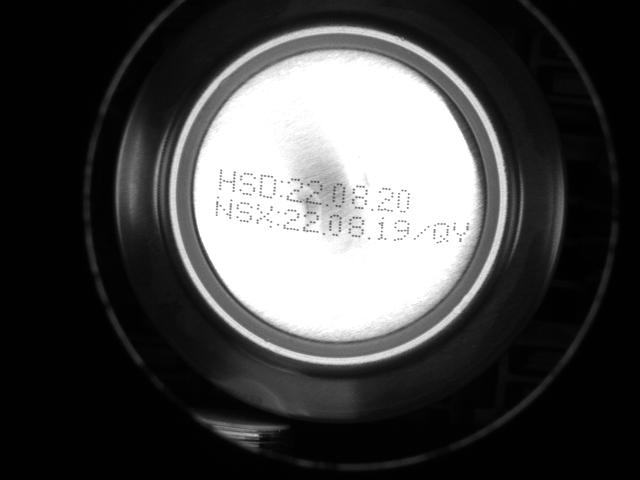.: (320, 221, 328, 240), (369, 194, 376, 214), (366, 228, 374, 242), (323, 193, 329, 209)
/: (411, 222, 431, 243)
0: (396, 185, 414, 215), (327, 212, 344, 240), (331, 181, 346, 210)
1: (376, 215, 388, 242)
2: (303, 179, 324, 206), (301, 208, 321, 236), (376, 185, 395, 213), (282, 206, 301, 234), (285, 176, 304, 203)
8: (350, 183, 369, 213), (347, 214, 365, 240)
9: (392, 217, 410, 245)
:: (276, 179, 284, 200), (274, 208, 282, 229)
D: (257, 172, 278, 199)
H: (217, 166, 238, 194)
N: (212, 193, 234, 222)
Q: (431, 219, 451, 246)
S: (233, 199, 254, 225), (237, 170, 257, 197)
X: (254, 201, 275, 228)
Y: (451, 218, 471, 247)
